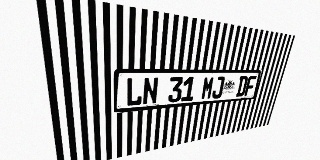1: (181, 77, 196, 102)
3: (168, 77, 183, 103)
D: (236, 76, 249, 97)
F: (244, 76, 257, 96)
J: (211, 76, 225, 99)
L: (126, 77, 143, 106)
M: (201, 76, 215, 100)
N: (142, 77, 159, 105)
